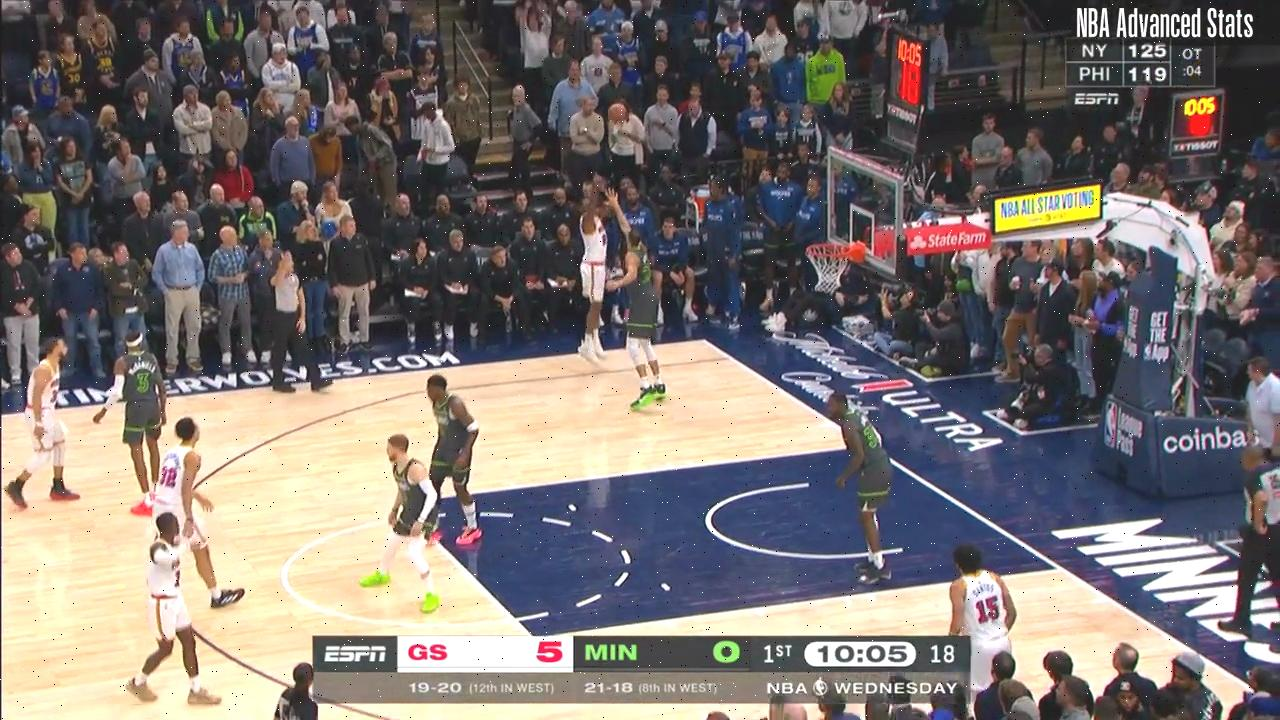basketball: (609, 99, 631, 122)
